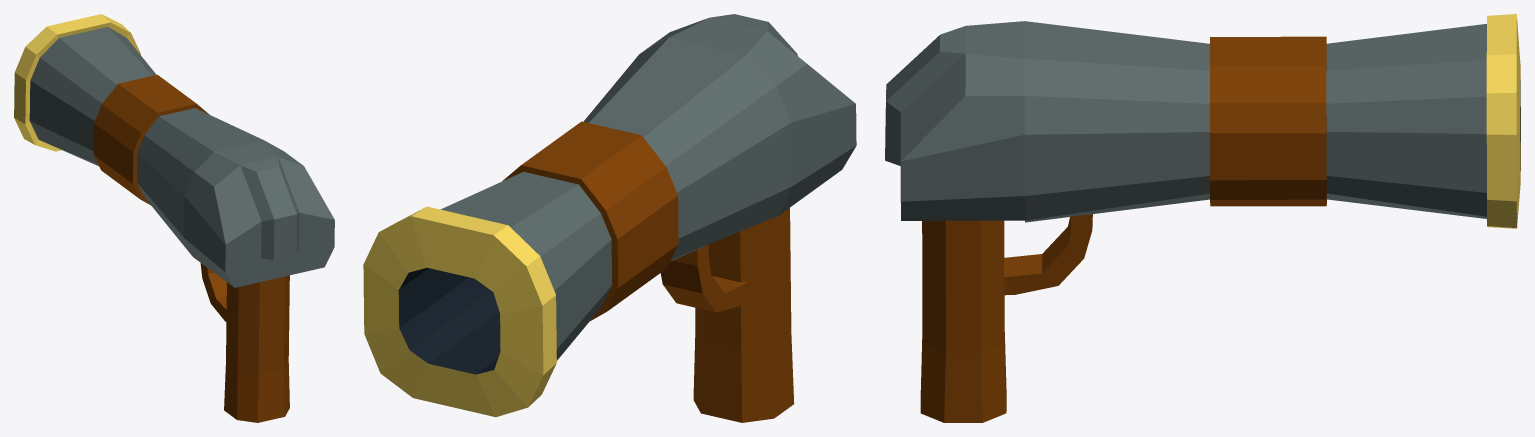
The model's file is Gun.fbx.
3 renders of one model, left to right at view 1: azimuth 30°, elevation 25°; view 2: azimuth 150°, elevation 25°; view 3: azimuth 270°, elevation 25°, orthographic. The views are drawn at different scales.
Visible parts, largest first — view 1: Cube.001; view 2: Cube.001; view 3: Cube.001.
Part boxes in pixels (bbox=[...]): Cube.001: bbox=[14, 14, 334, 422]; Cube.001: bbox=[363, 14, 856, 422]; Cube.001: bbox=[885, 14, 1520, 422].
Bounding box in the file's own units: 0.1755 × 0.5533 × 0.3583.
